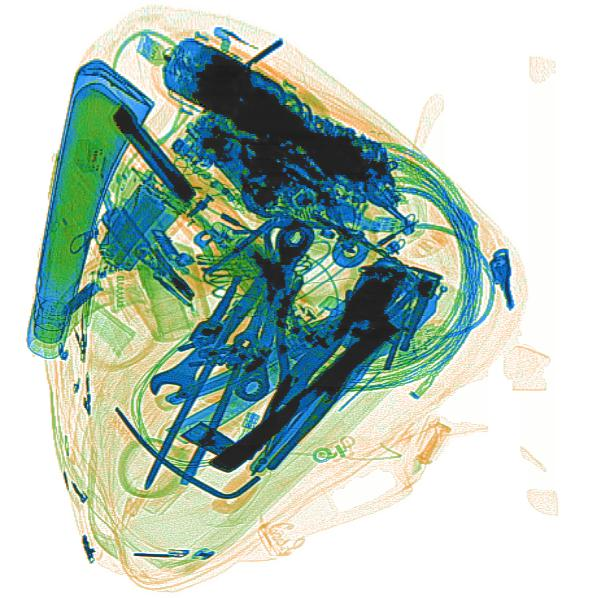battery: (97, 182, 178, 273)
knife: (158, 349, 316, 462)
